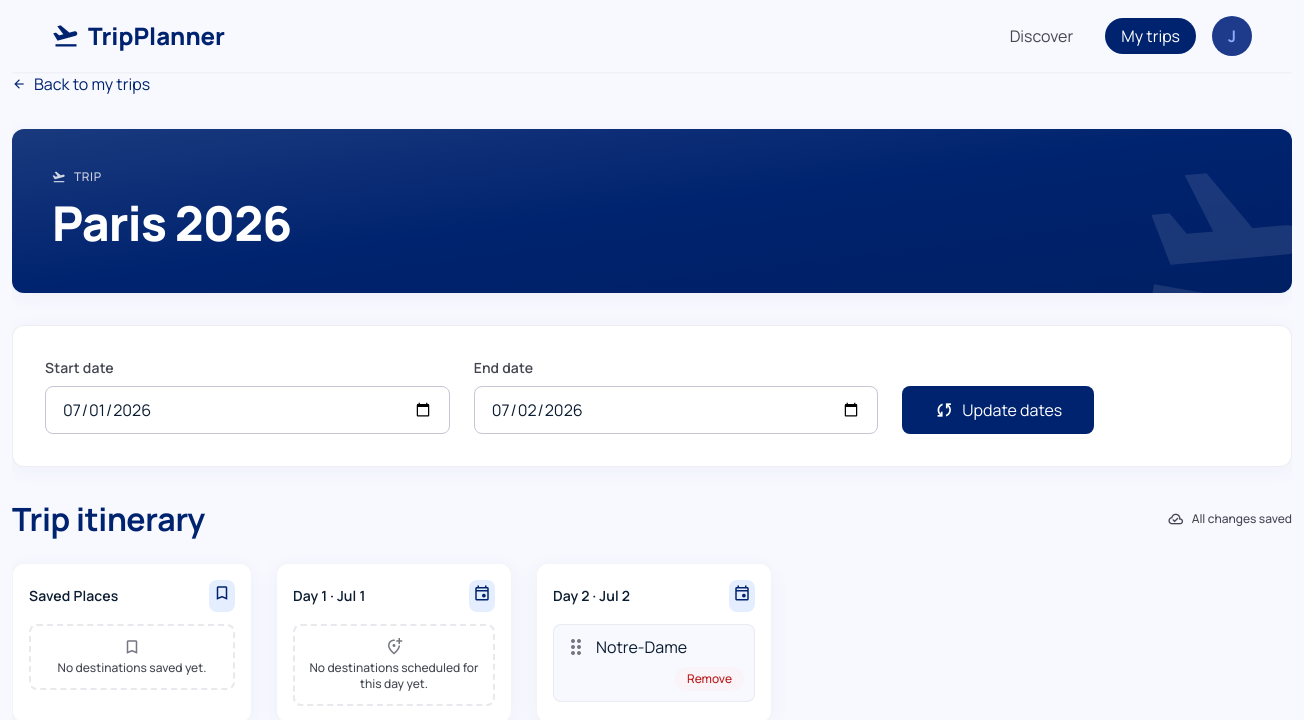
Test case: TripPlannerPage › removes a destination immediately (F3-US7)
Expected: the text "Notre-Dame" is shown, [596,636,687,658]
Click the button "Remove": click(710, 679) [675,667,744,691]
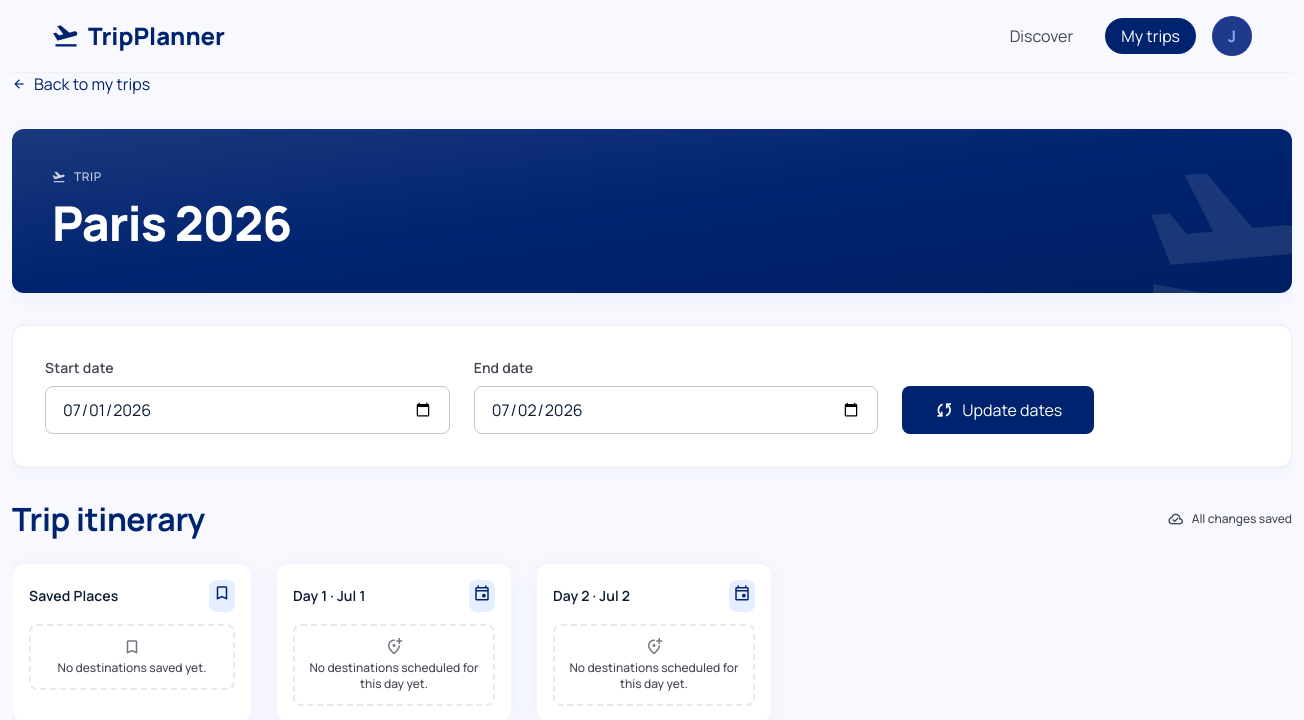
Expected: the text "Notre-Dame" is gone
Expected: the text "No destinations scheduled for this day yet." is shown 2 times, [295,660,493,692]; [555,660,753,692]
